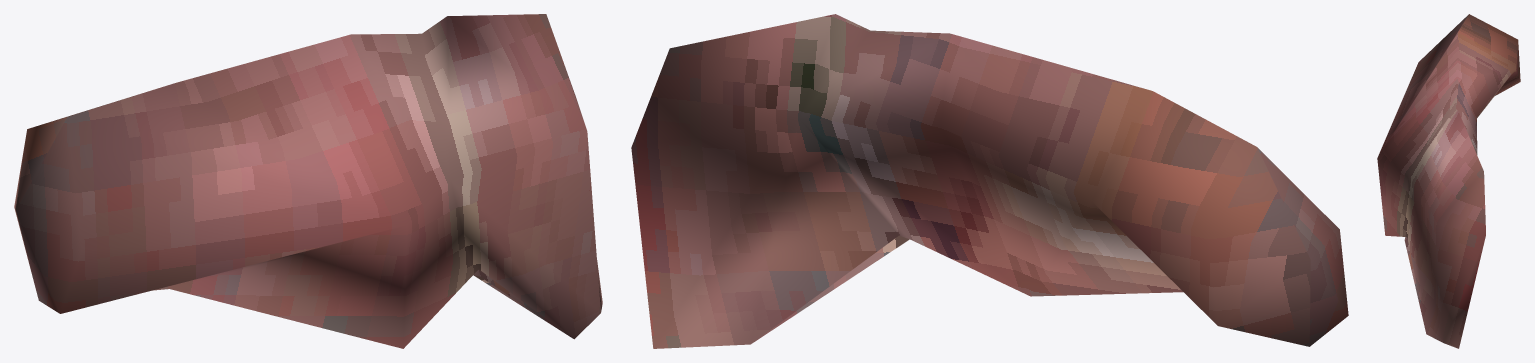
The model's file is eqp_organ_liver_s01_l3.fbx.
3 renders of one model, left to right at view 1: azimuth 30°, elevation 25°; view 2: azimuth 150°, elevation 25°; view 3: azimuth 270°, elevation 25°, orthographic. The views are drawn at different scales.
Visible parts, largest first — view 1: mesh_node; view 2: mesh_node; view 3: mesh_node.
Part boxes in pixels (x1,y1,x2,y2): mesh_node: (14,14,602,348); mesh_node: (631,14,1348,348); mesh_node: (1377,14,1520,348).
Bounding box in the file's own units: 0.3073 × 0.1705 × 0.1118.
